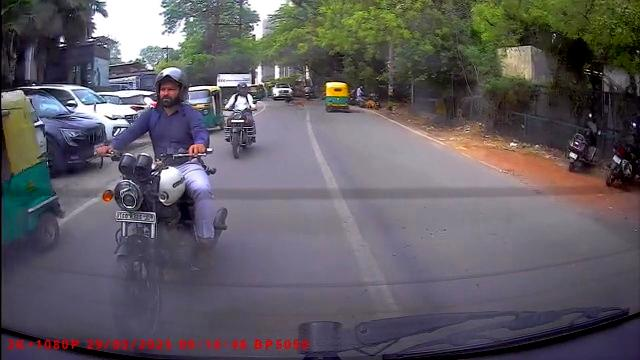motorcycle_with_helmet: (93, 66, 226, 335), (221, 79, 259, 162)
